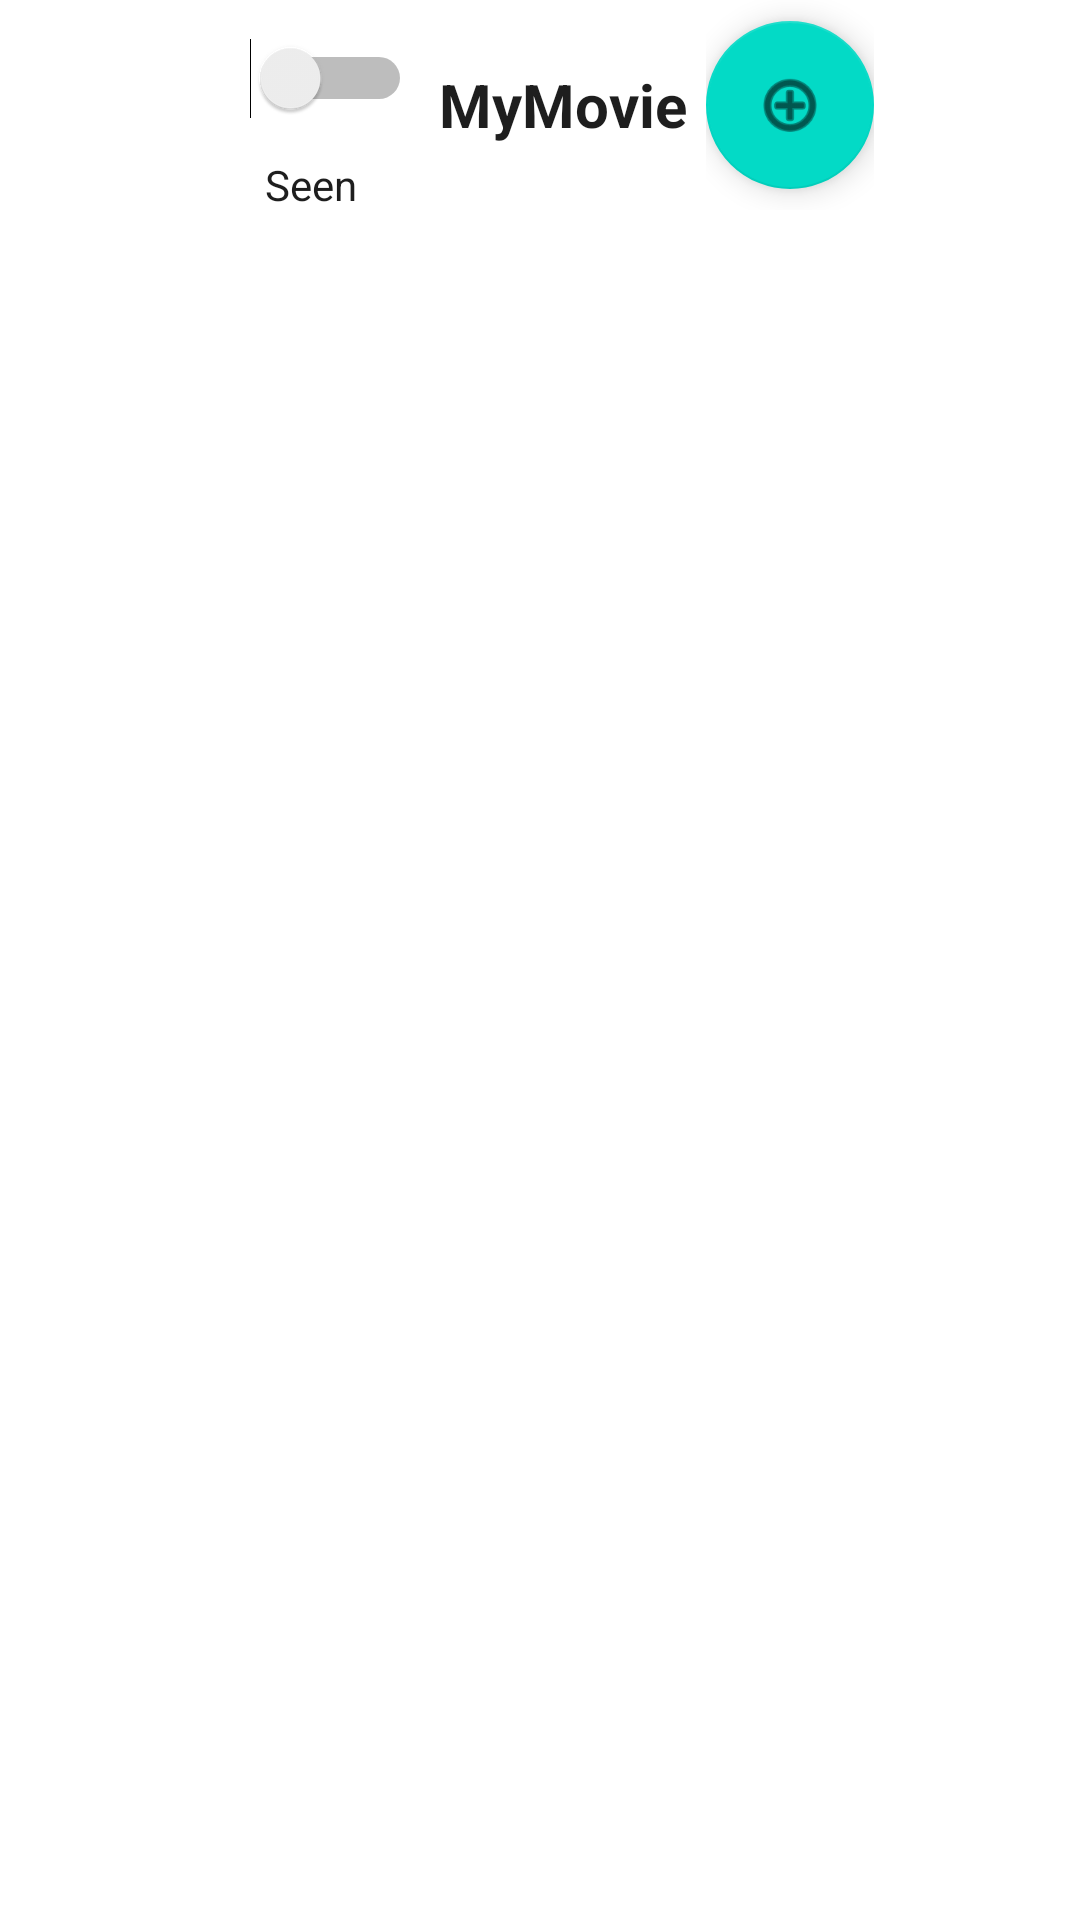

Where to tap for icons on this 1080px×1920px app screen, as point (x, y):
Add new movie: point (790, 105)
